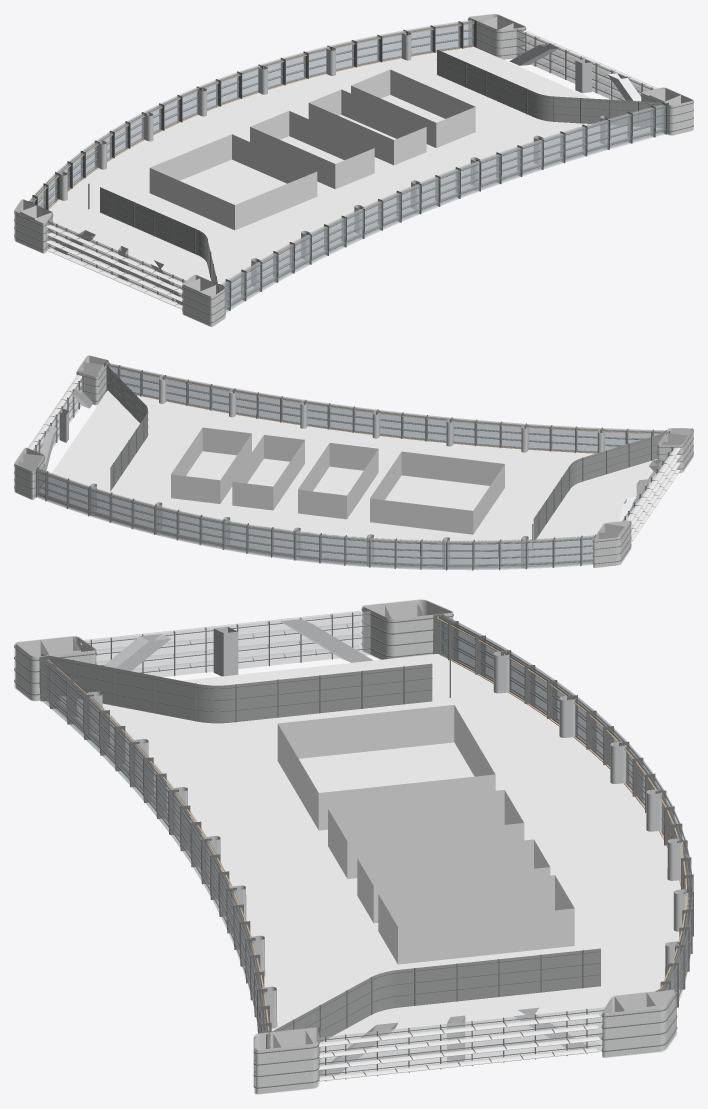
The picture shows the model from 3 angles, top to bottom: view 1: azimuth 30°, elevation 25°; view 2: azimuth 150°, elevation 25°; view 3: azimuth 270°, elevation 25°; orthographic projection. The views are drawn at different scales.
Visible parts, largest first — view 1: floor.035; view 2: floor.035; view 3: floor.035.
Part boxes in pixels (x1,y1,x2,y2): floor.035: (14, 14, 693, 326); floor.035: (14, 355, 693, 570); floor.035: (14, 599, 693, 1094).
Size of the model in its own units: 82 by 3.74 by 52.2.
Materials: 14 (1 with a texture image).
